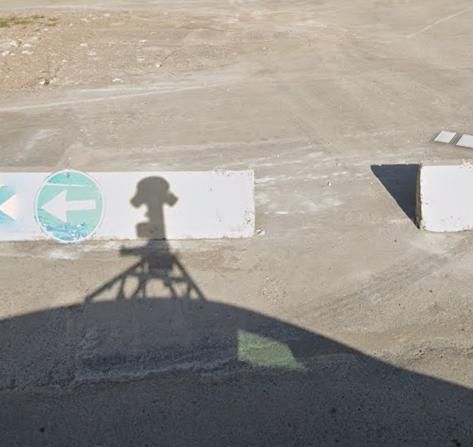turnleft: (34, 171, 105, 240)
